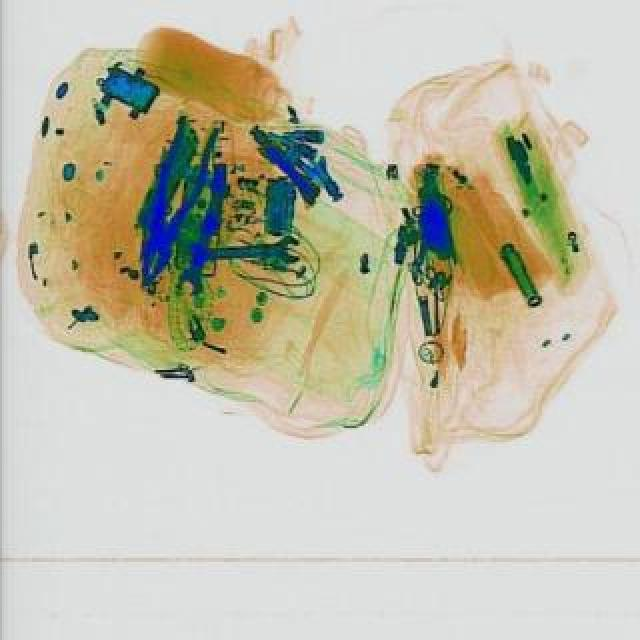scissors: (168, 180, 236, 302), (188, 236, 296, 272)
wrench: (118, 116, 224, 294)
